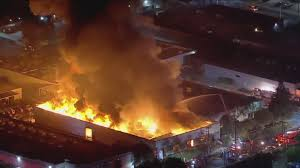smoke: (28, 1, 203, 130)
